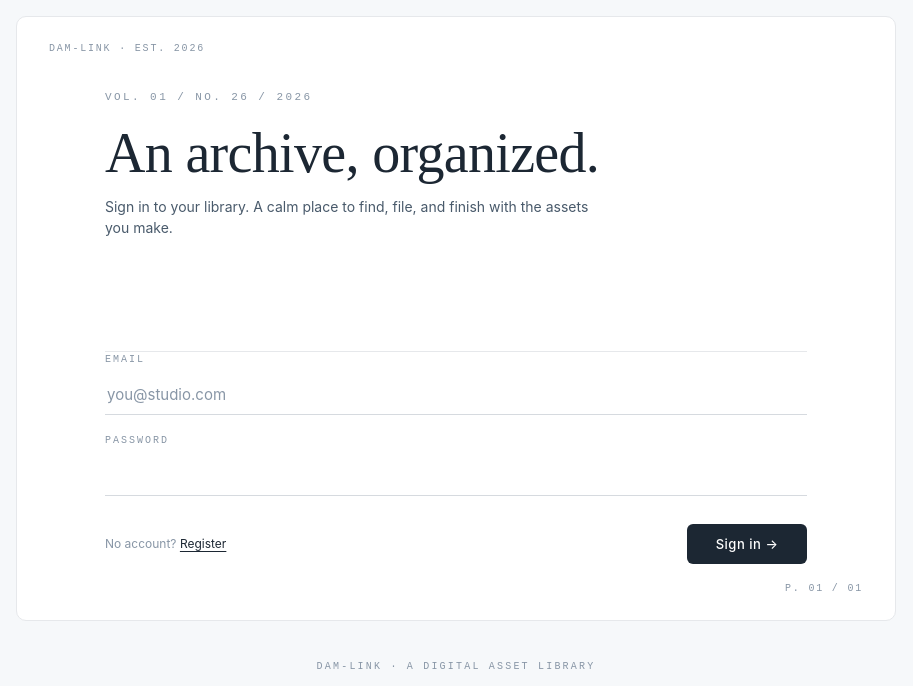
Test case: LoginScreen error handling (T5) › falls back to a generic message on a non-ApiError
Type "me@studio.com" into the field labelled "Email" at (456,395), box top-left (105, 375), bottom-right (807, 415)
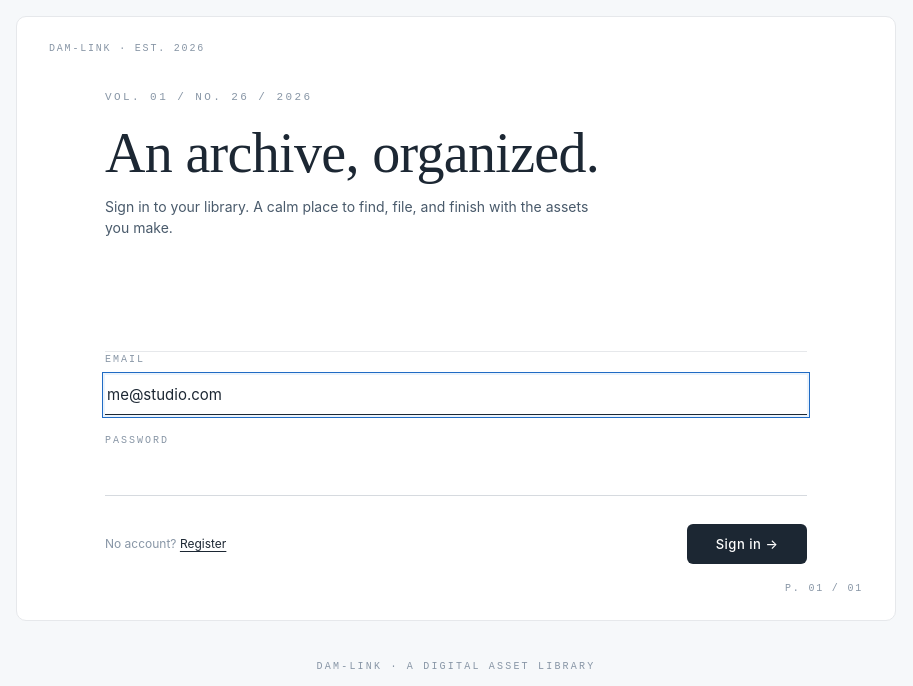
Type "longenoughpassword" into the password field labelled "Password" at (456,476), box top-left (105, 456), bottom-right (807, 496)
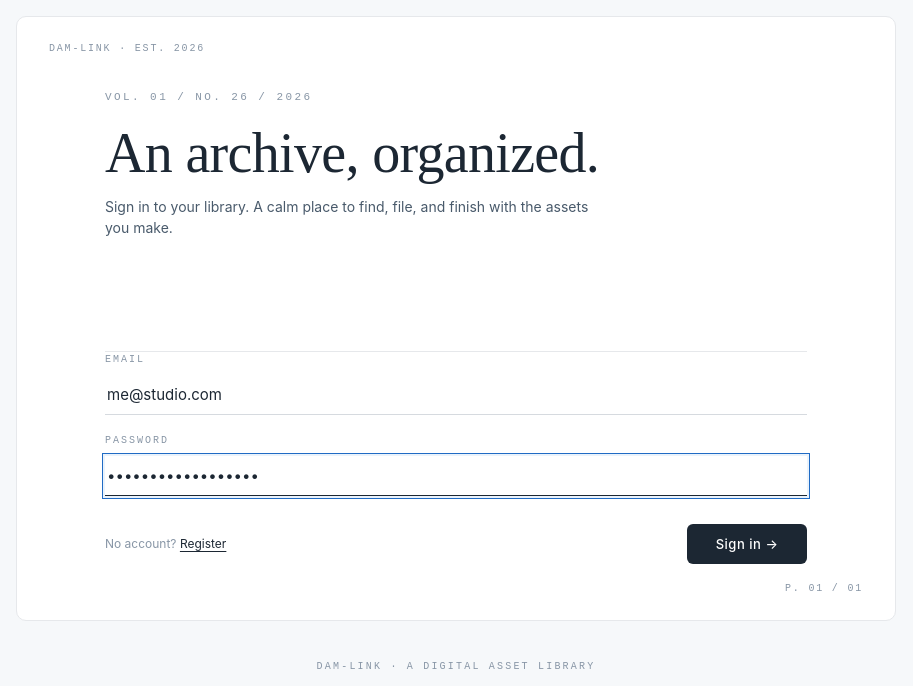
Click the button "Sign in →" at (747,544), box top-left (687, 524), bottom-right (807, 564)
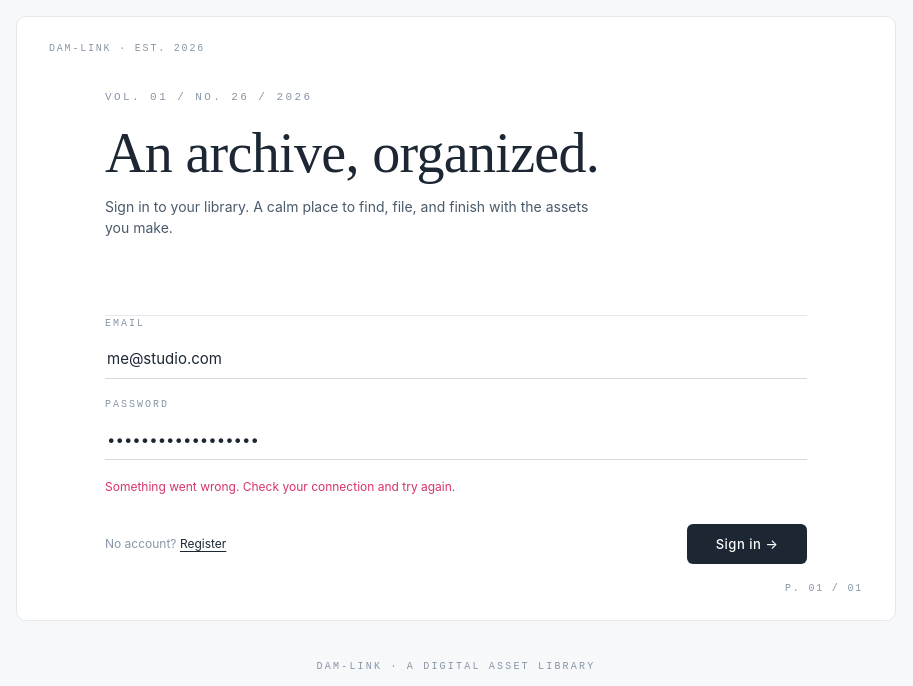
Check: the message shows "Something went wrong", box top-left (105, 479), bottom-right (455, 494)
